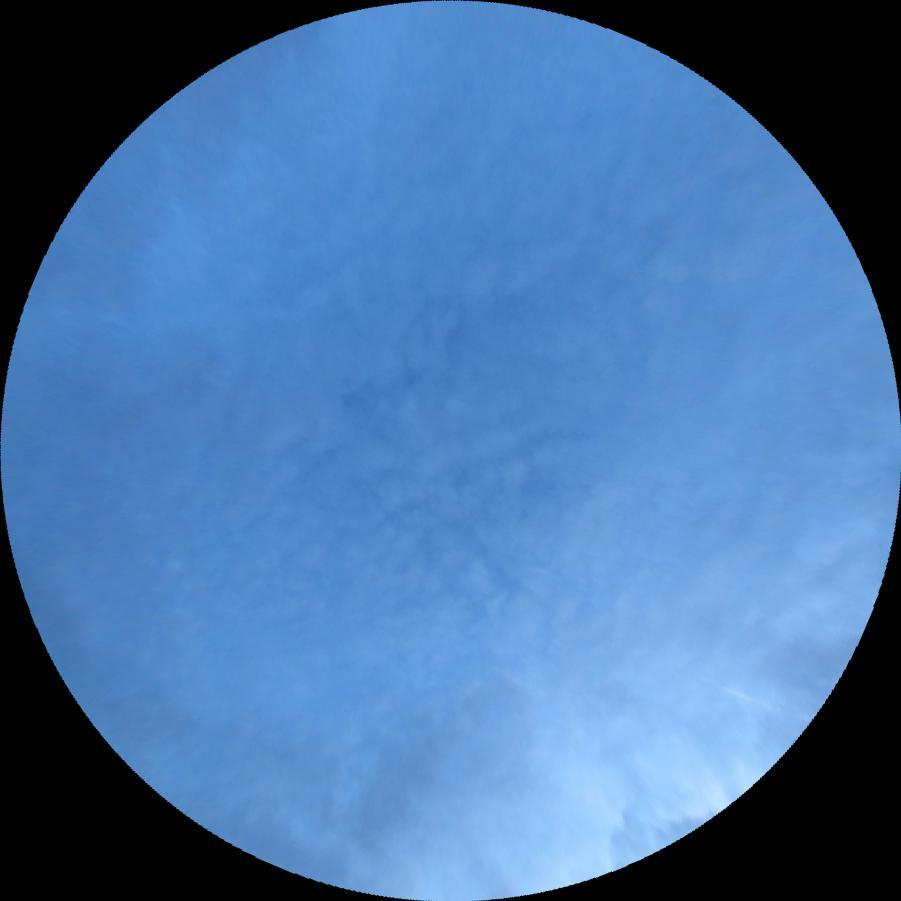unknow: (692, 670, 802, 722)
